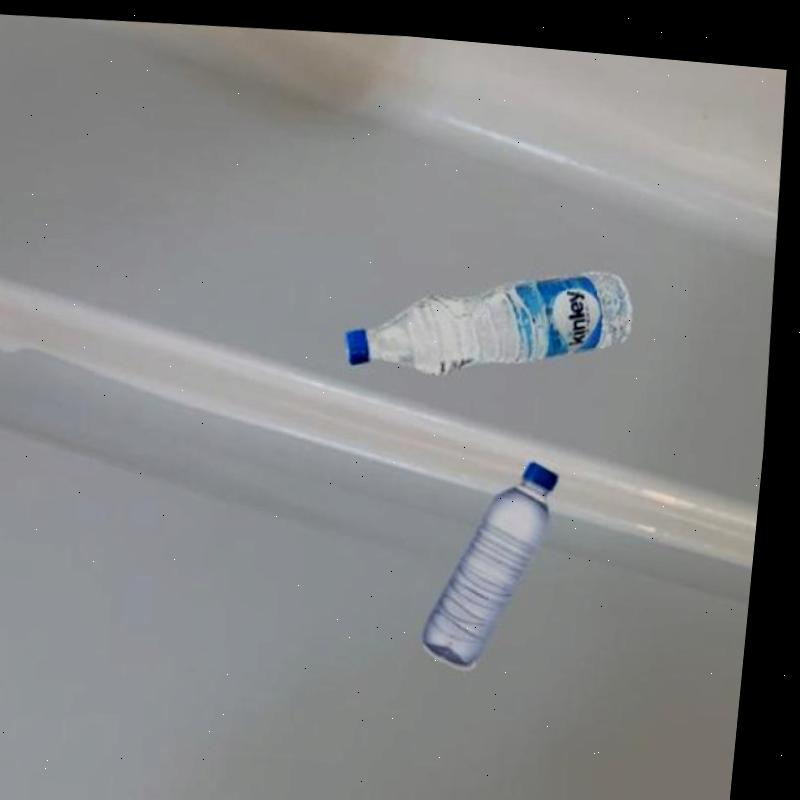botella: (347, 238, 642, 384), (425, 442, 574, 666)
